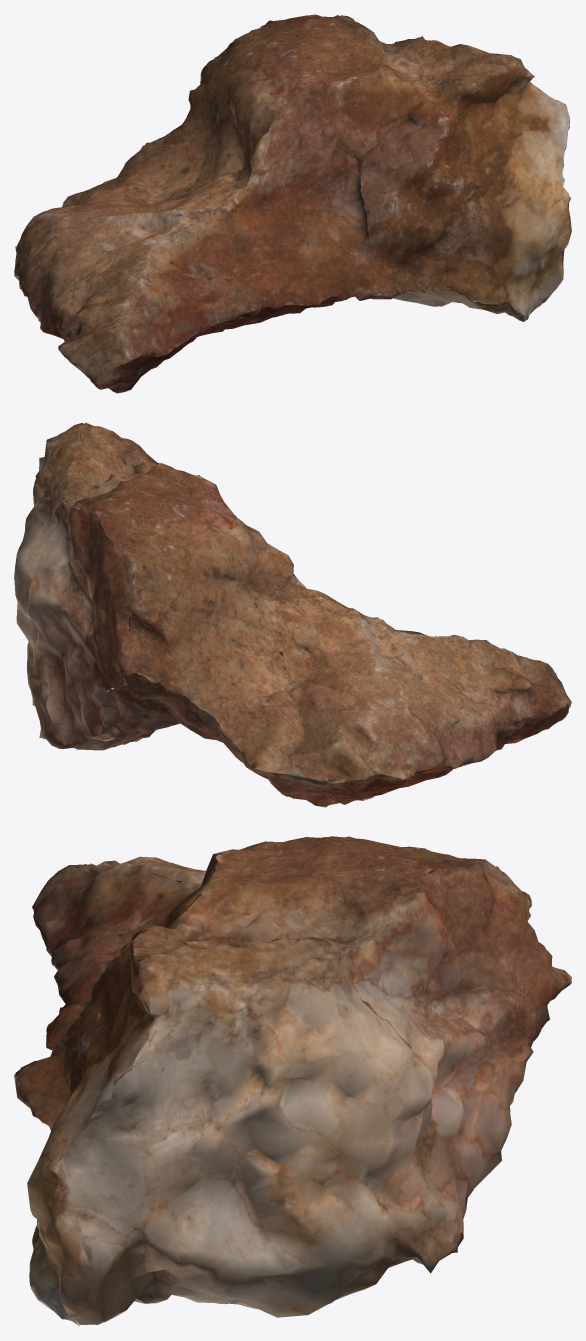
The model's file is stone_01.glb.
3 renders of one model, top to bottom at view 1: azimuth 30°, elevation 25°; view 2: azimuth 150°, elevation 25°; view 3: azimuth 270°, elevation 25°, orthographic. The views are drawn at different scales.
Visible parts, largest first — view 1: stone_01; view 2: stone_01; view 3: stone_01.
Boxes of the visible parts, left/top/right/bottom form: stone_01: left=14, top=14, right=571, bottom=393; stone_01: left=14, top=422, right=571, bottom=807; stone_01: left=14, top=836, right=571, bottom=1326.
Bounding box in the file's own units: 0.2203 × 0.1069 × 0.1336.
Materials: 1 (1 with a texture image).
